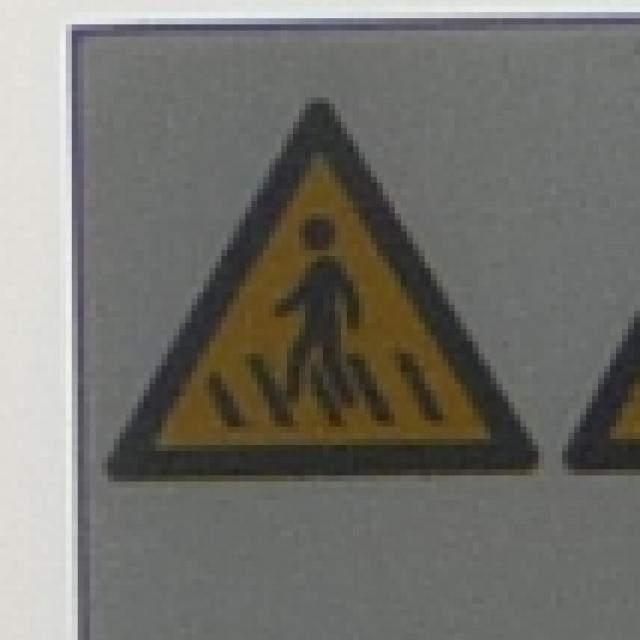Crossing: (98, 82, 553, 482)
